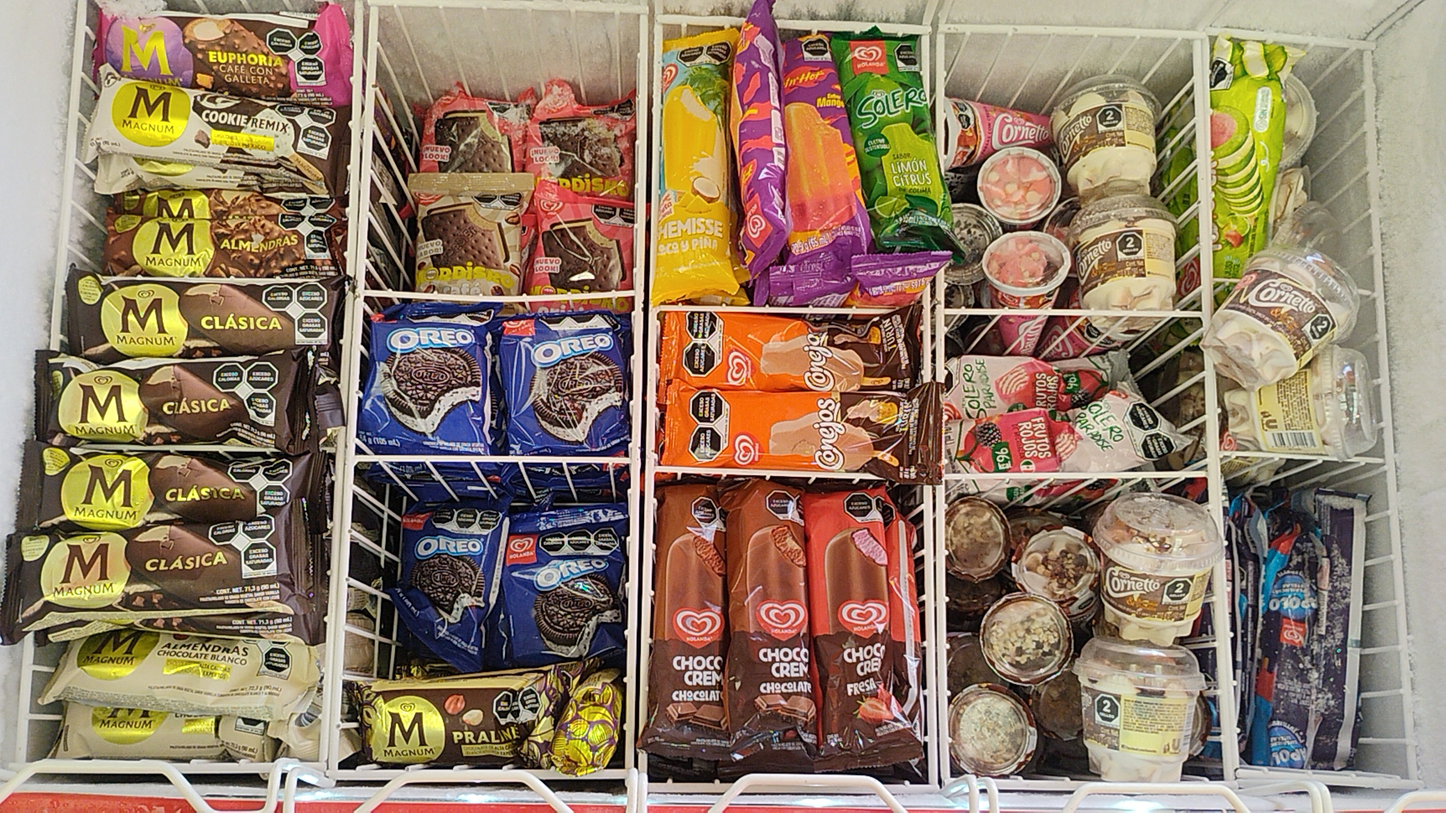rejilla: (1364, 50, 1419, 779), (328, 5, 380, 769), (320, 0, 364, 770), (1193, 38, 1234, 779), (1202, 35, 1239, 769), (624, 8, 648, 763), (638, 14, 661, 771), (49, 1, 86, 352), (924, 486, 938, 783), (937, 486, 951, 776), (11, 764, 323, 776), (1206, 27, 1376, 49), (368, 0, 648, 13), (937, 24, 1206, 37), (654, 466, 886, 480), (14, 631, 34, 765), (330, 769, 627, 778), (656, 305, 896, 315), (775, 18, 931, 33), (647, 784, 939, 792), (945, 308, 1203, 317), (356, 455, 629, 463), (365, 290, 528, 303), (945, 472, 1209, 479), (527, 290, 634, 302), (936, 33, 944, 178), (1227, 452, 1338, 460), (937, 267, 944, 383), (663, 16, 747, 25), (923, 283, 930, 382), (921, 35, 929, 104), (1347, 457, 1386, 463), (1358, 290, 1373, 296), (1219, 278, 1241, 282)
